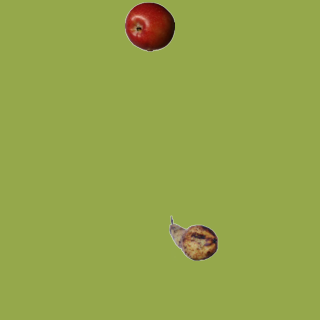Apple Braeburn: (124, 1, 174, 51)
Pear Abate: (168, 213, 218, 263)
